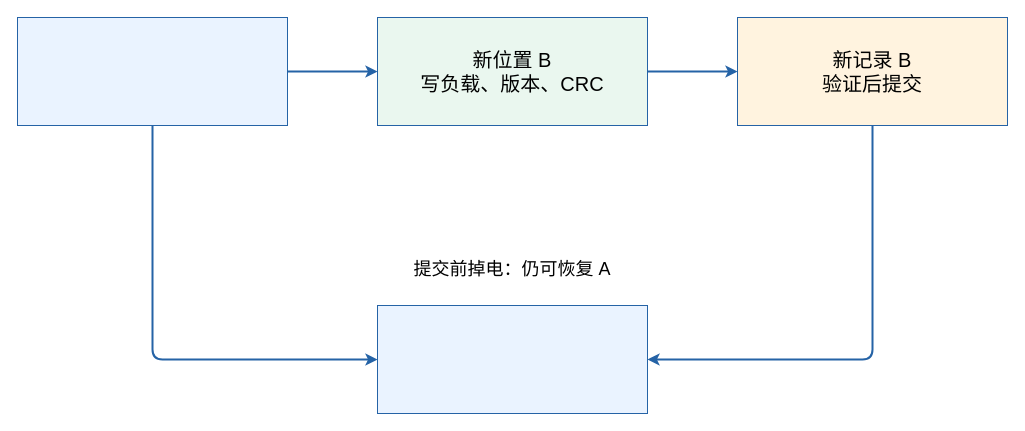
Image size: 1025x431. Some labels were removed from this diagram. The centre of each missing label's shape, as x and y in pixels:
下次上电扫描 选择最新完整记录: the point at 512,359
旧记录 A 完整且已提交: the point at 152,71
